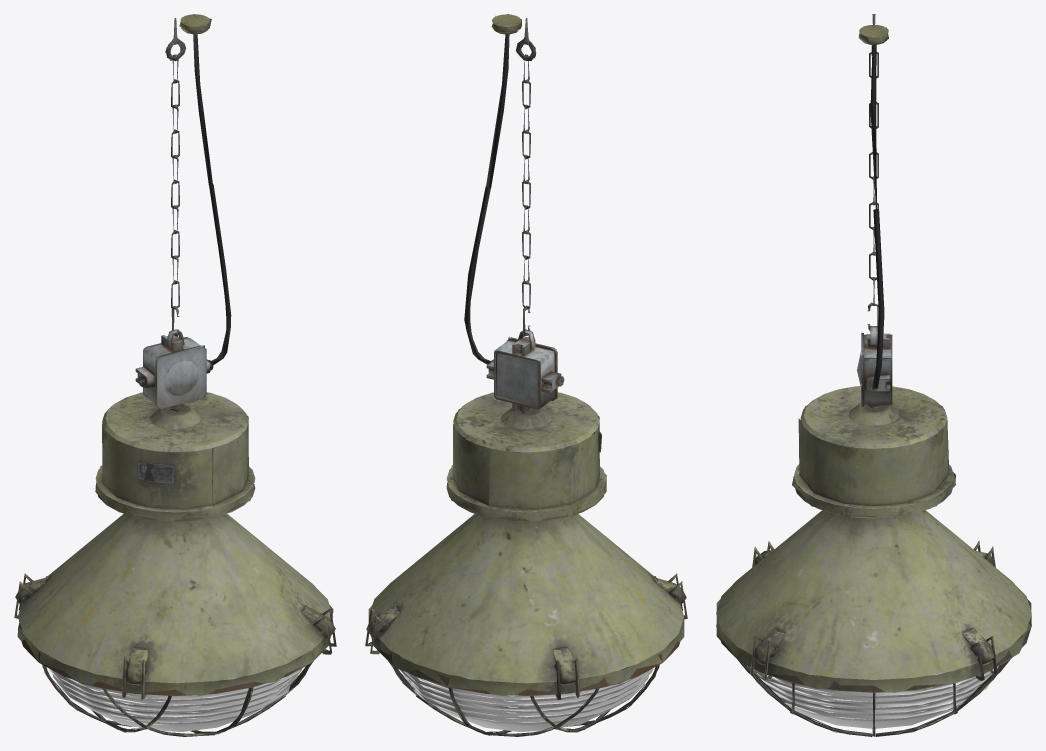
The model's file is hanging_industrial_lamp.gltf.
3 views of the same model, side by side, from view 1: azimuth 30°, elevation 25°; view 2: azimuth 150°, elevation 25°; view 3: azimuth 270°, elevation 25° (orthographic).
Visible parts, largest first — view 1: hanging_industrial_lamp; view 2: hanging_industrial_lamp; view 3: hanging_industrial_lamp.
Part boxes in pixels (x1=…): hanging_industrial_lamp: x1=14, y1=14, x2=336, y2=736; hanging_industrial_lamp: x1=365, y1=14, x2=687, y2=736; hanging_industrial_lamp: x1=716, y1=14, x2=1031, y2=736.
Bounding box in the file's own units: 0.5496 × 1.36 × 0.5496.
1 material, 1 textured.
